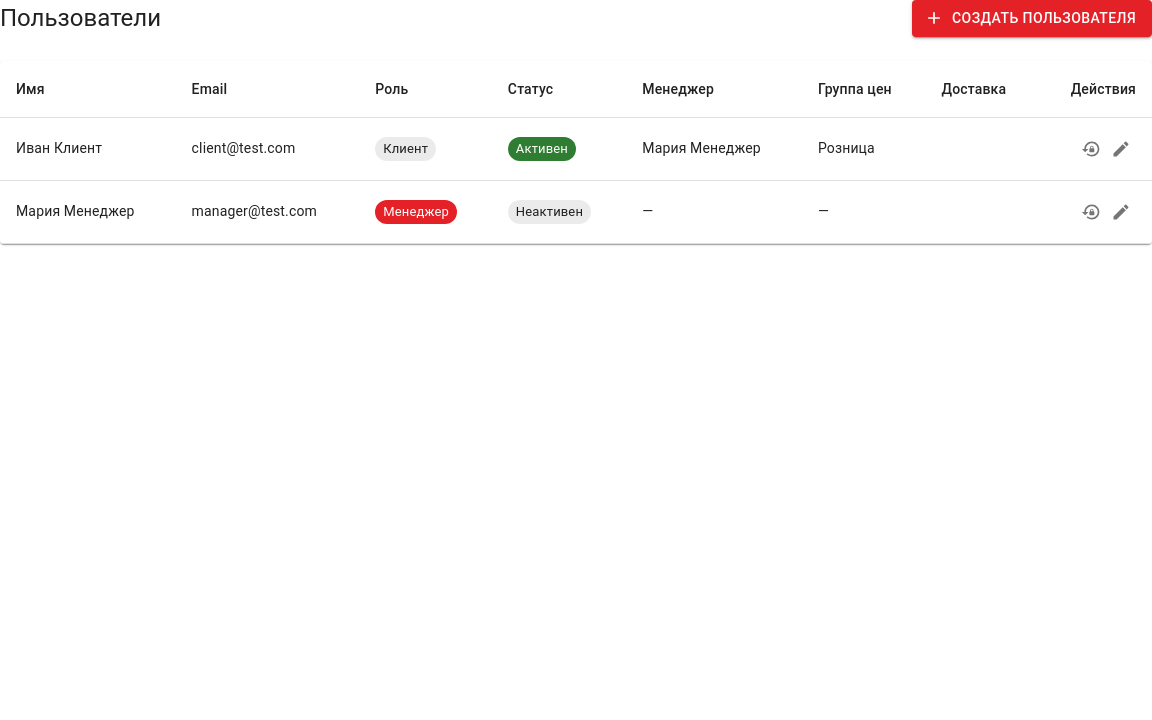
Test: UsersPage › opens create user dialog when create button clicked
Expected: the text "Иван Клиент" is shown, [0, 117, 176, 180]
Click the button "Создать пользователя" at (1032,18), box [912, 0, 1151, 36]
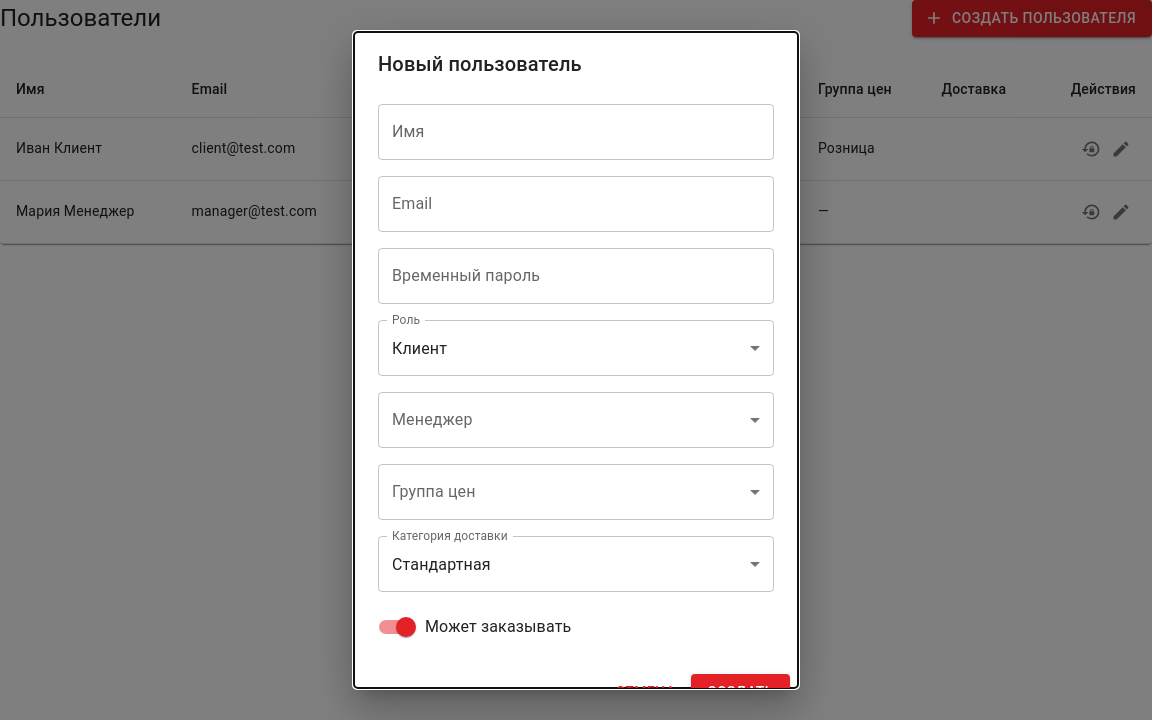
Expected: the dialog is shown, [354, 32, 798, 688]
Expected: the heading "Новый пользователь" is shown, [378, 52, 582, 76]
